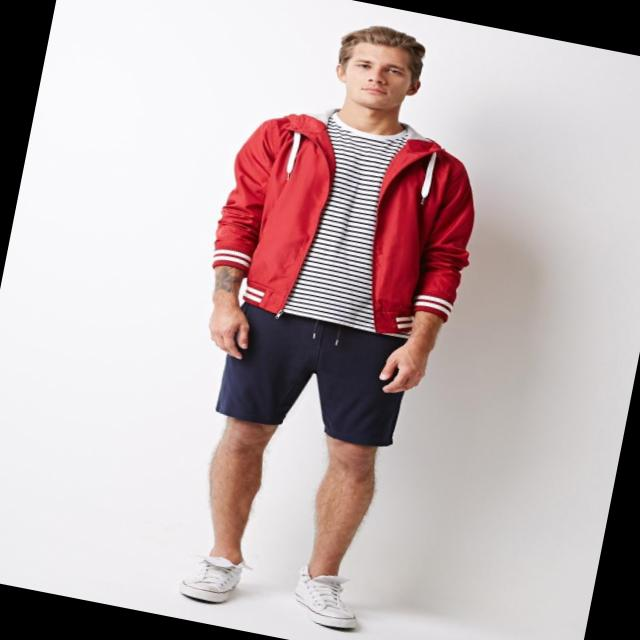Jacket: (198, 85, 502, 348)
